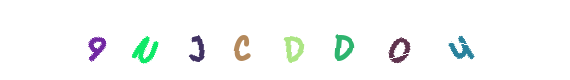0: (291, 0, 371, 80)
4: (421, 0, 501, 80)
9: (62, 0, 142, 80)
C: (245, 0, 325, 80)
D: (245, 0, 325, 80), (275, 0, 355, 80)
J: (216, 0, 296, 80)
N: (105, 0, 185, 80)
